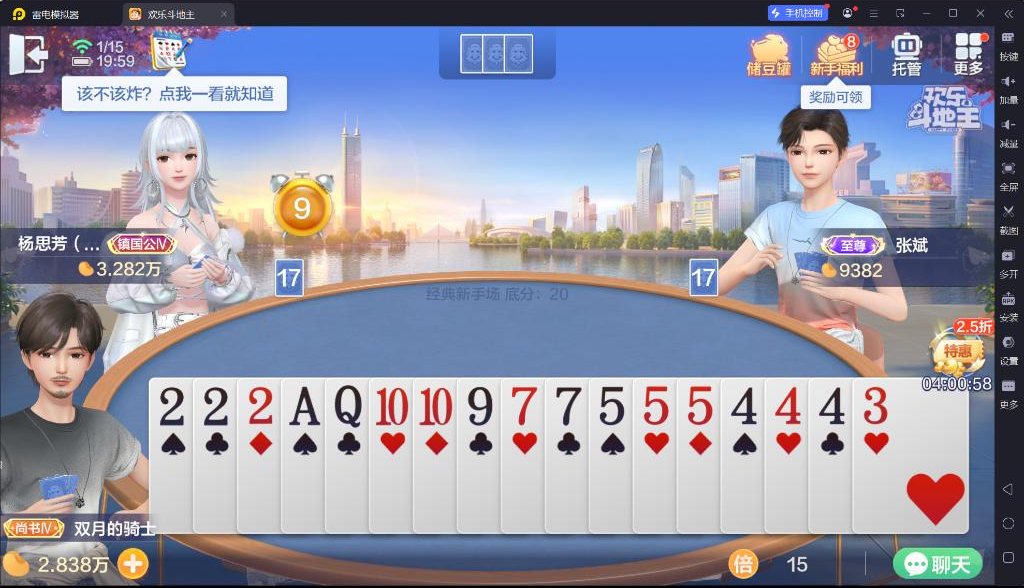A: (287, 383, 321, 428)
Q: (332, 384, 365, 430)
five: (639, 383, 673, 427), (682, 384, 716, 427), (595, 384, 627, 427)
four: (815, 384, 847, 427), (727, 385, 759, 426), (772, 385, 803, 426)
nine: (463, 384, 495, 428)
seven: (505, 383, 540, 427), (551, 383, 583, 427)
ten: (373, 383, 409, 427), (417, 383, 453, 427)
three: (858, 386, 892, 426)
two: (155, 384, 187, 427), (244, 384, 276, 426), (200, 384, 230, 428)
